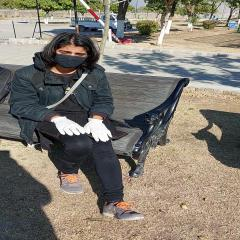gloved: (84, 118, 112, 142), (51, 118, 85, 136)
